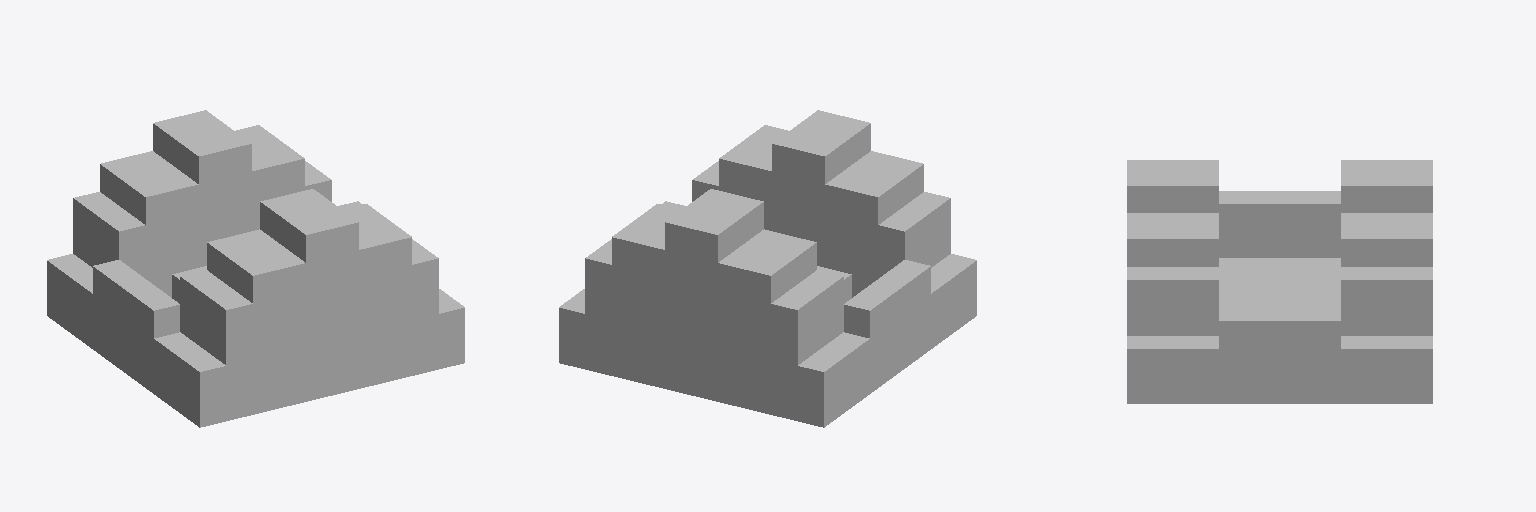
File: lever 1.obj
The picture shows the model from 3 angles: view 1: azimuth 30°, elevation 25°; view 2: azimuth 150°, elevation 25°; view 3: azimuth 270°, elevation 25°; orthographic projection.
Size of the model in its own units: 10 by 6 by 10.